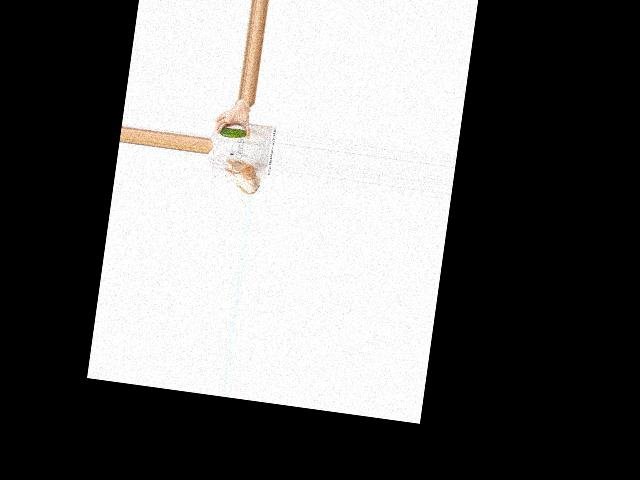cucumber: (219, 126, 248, 139)
